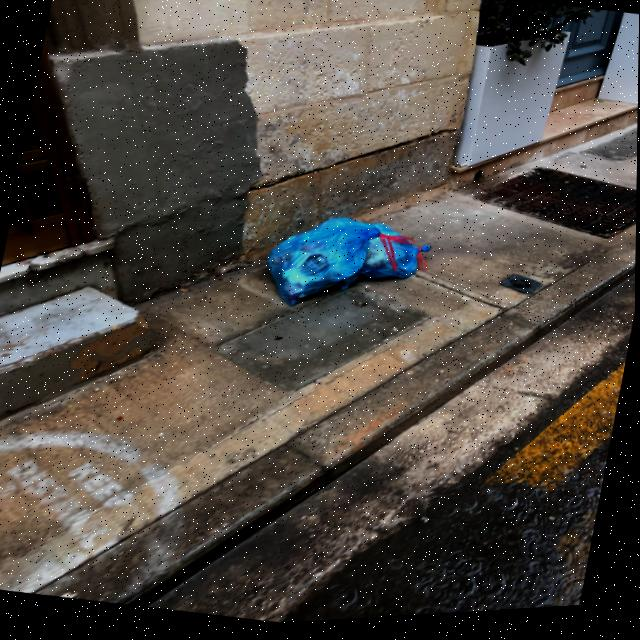Other: (259, 202, 387, 325), (342, 217, 432, 295)
